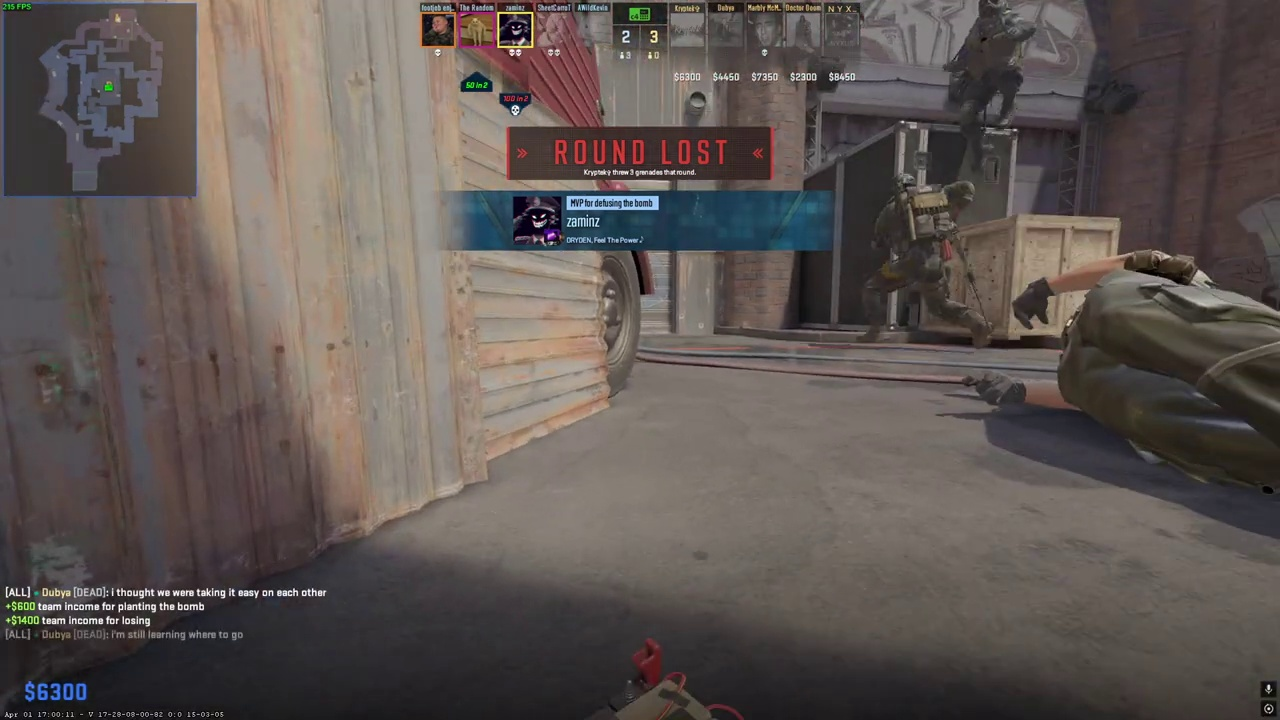CT: (874, 167, 973, 346), (951, 0, 1029, 135)
